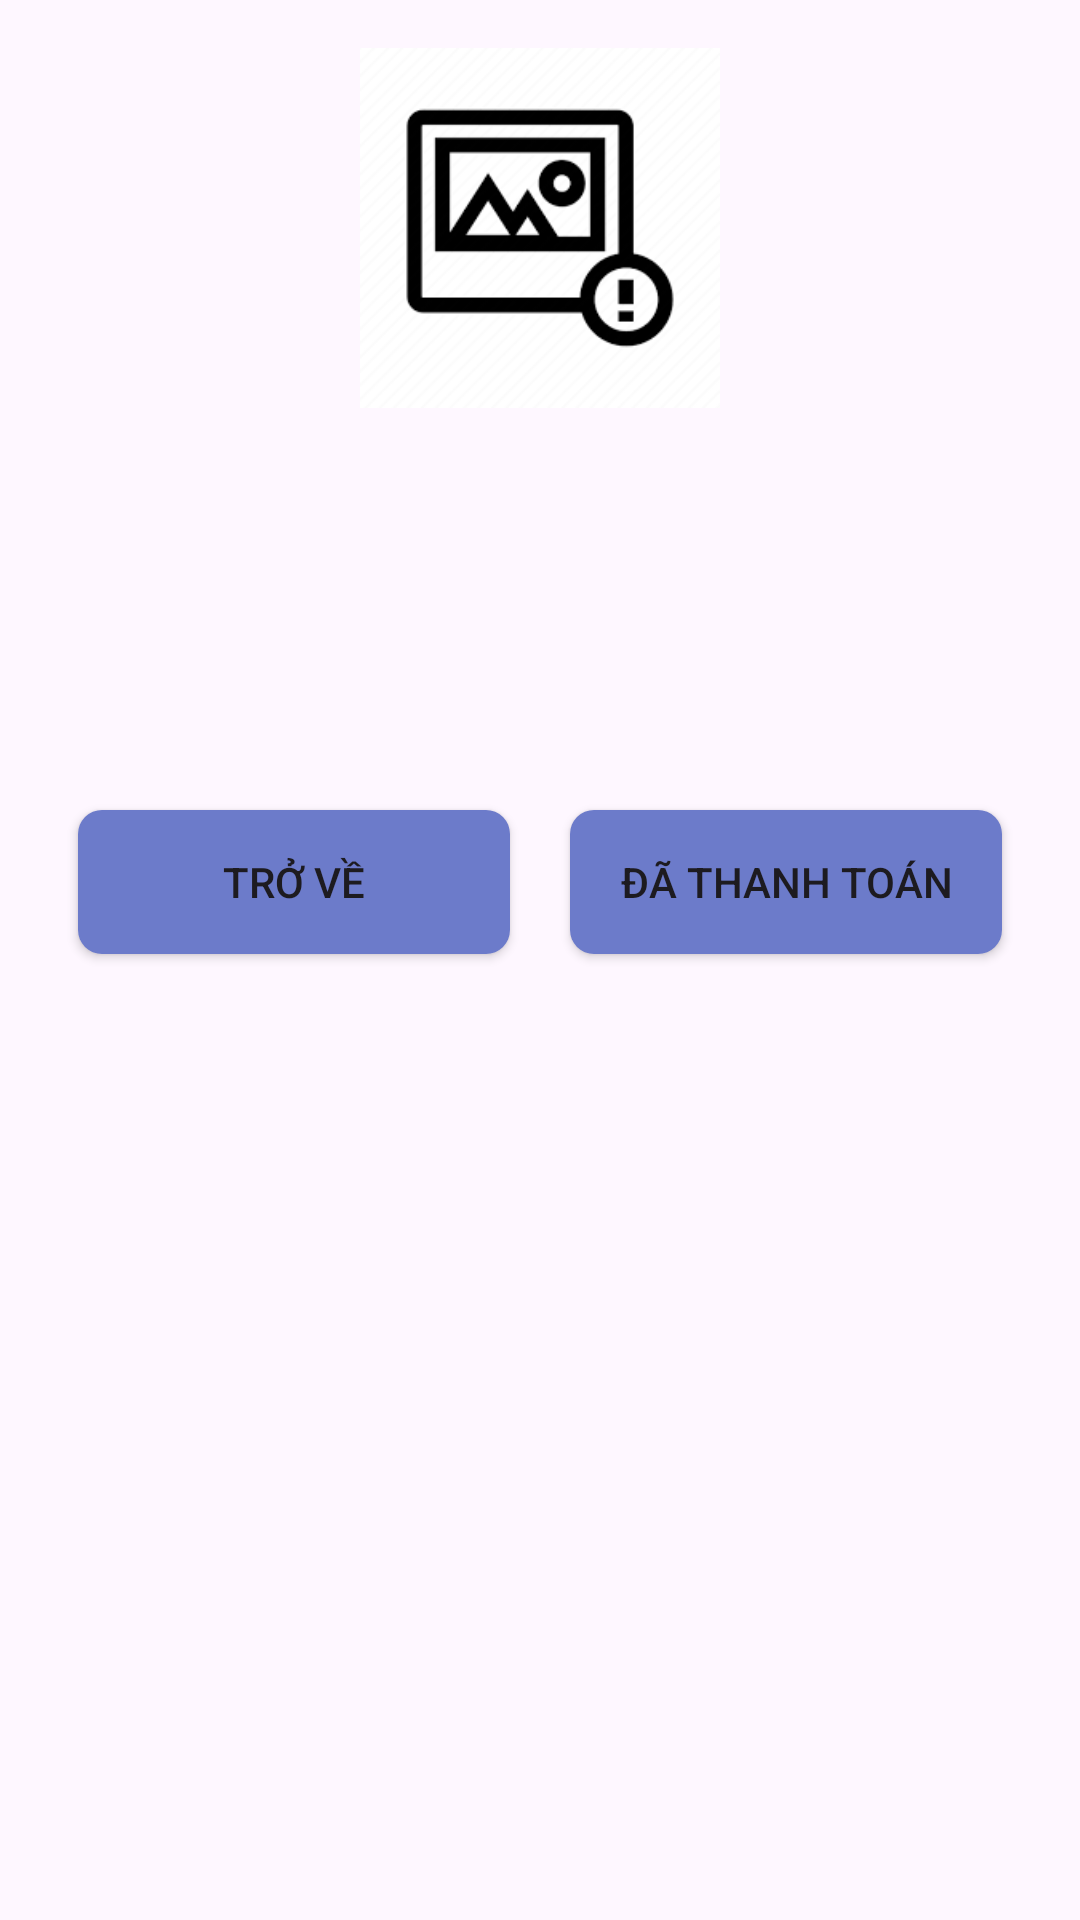

Point at icon controls on the screen. Image size 1080w x 1920h, points as point (x, y).
error: point (540, 228)
